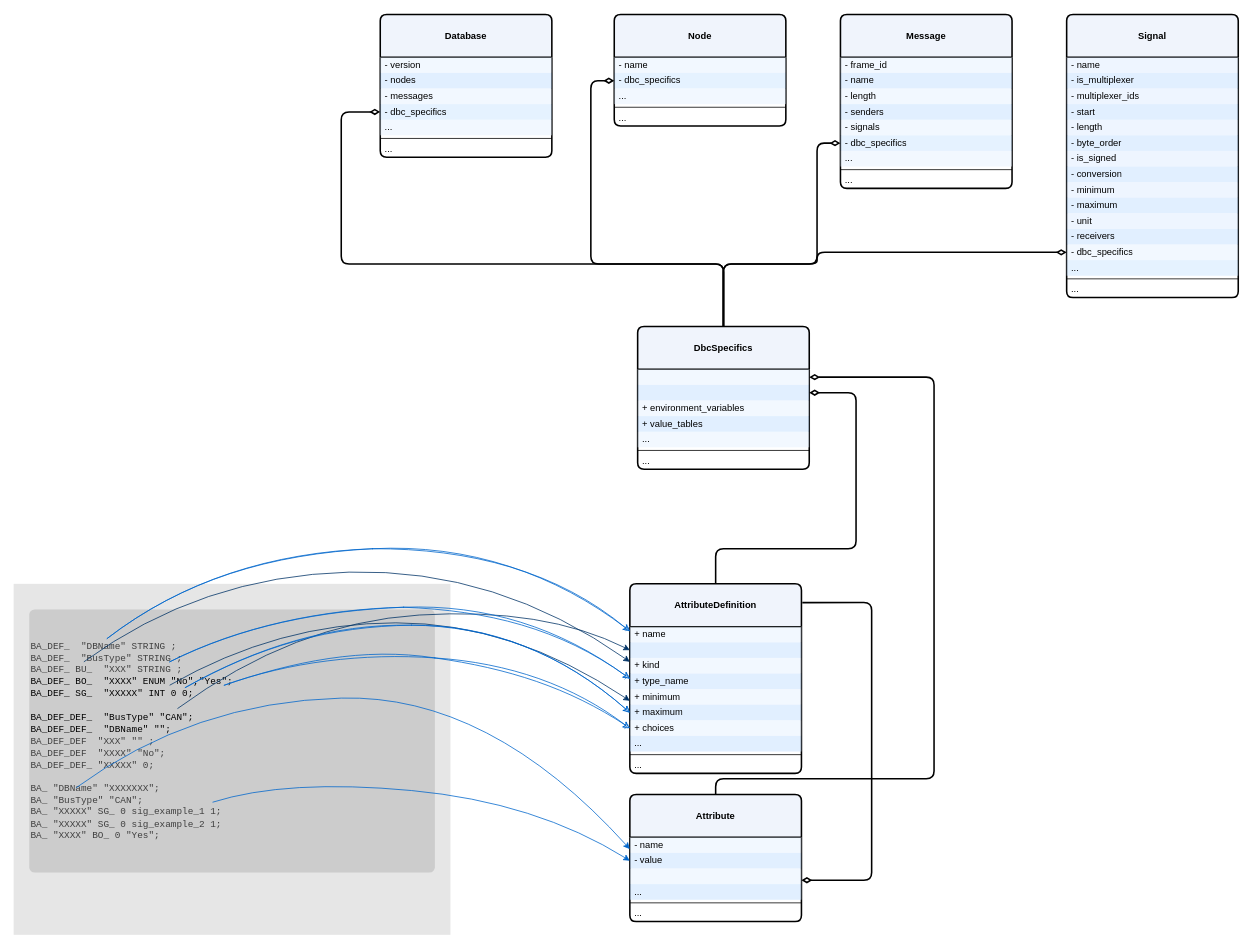
Image size: 1252x948. Some labels were removed from this diagram. The shapes that lost their labels are listed below. From the top down, each one's centre as x and y in pixels, then its label:
the point at 723,377: + attributes
the point at 723,392: + attribute_definitions
the point at 715,650: + default_value
the point at 715,876: - definition
